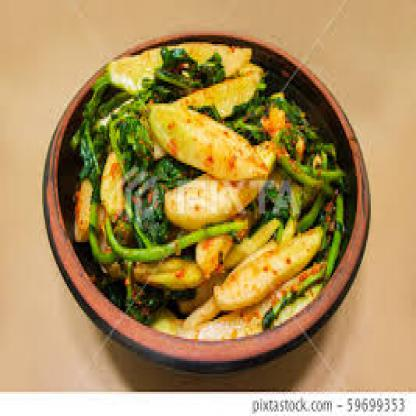chonggak Kimchi: (73, 35, 340, 341)
